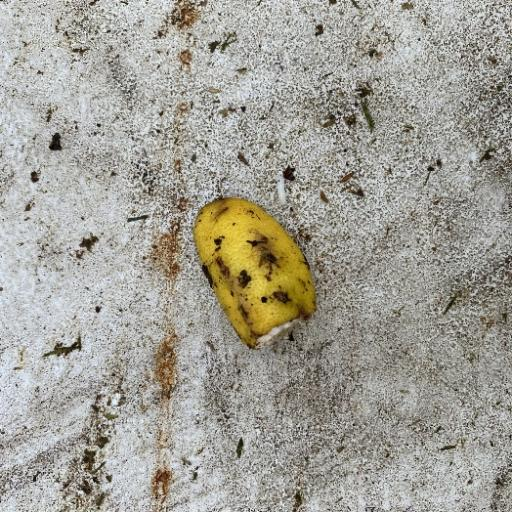Waste: (190, 195, 318, 351)
